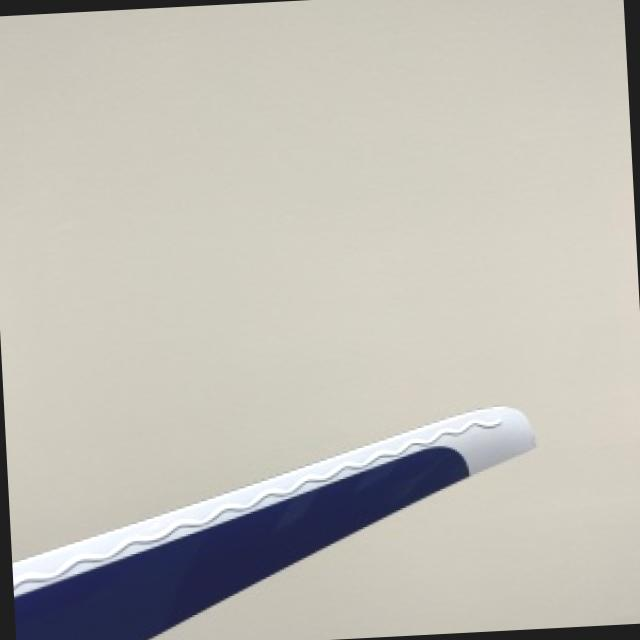healthy: (12, 406, 531, 640)
